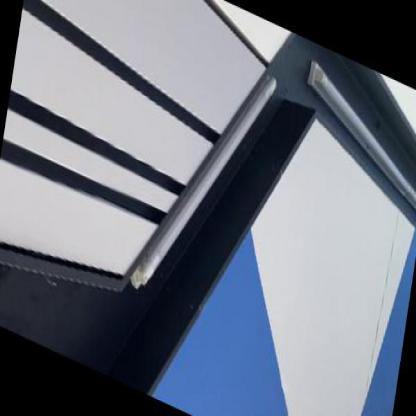light_off: (120, 2, 284, 348), (283, 38, 415, 272)
